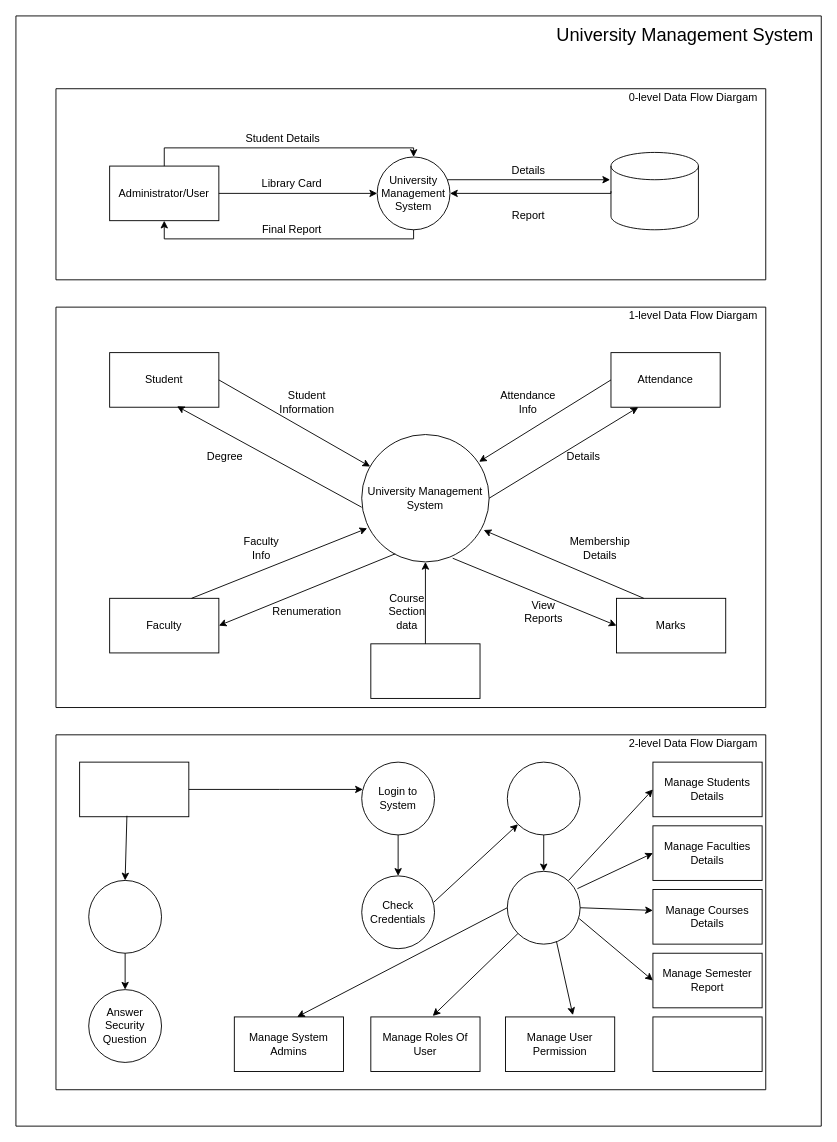
Image size: 837x1142. Some labels were removed from this diagram. The centre of each missing label's shape, as x and y in pixels:
Admin: [134,789]
Administration: [425,670]
Check Roles Of Access: [543,798]
Forgot Password: [125,916]
Manage Modules: [543,907]
Manage Registration Profiles: [707,1044]
My SQL Database: [654,191]
